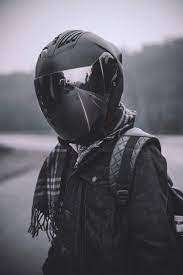helmets: (23, 25, 129, 155)
